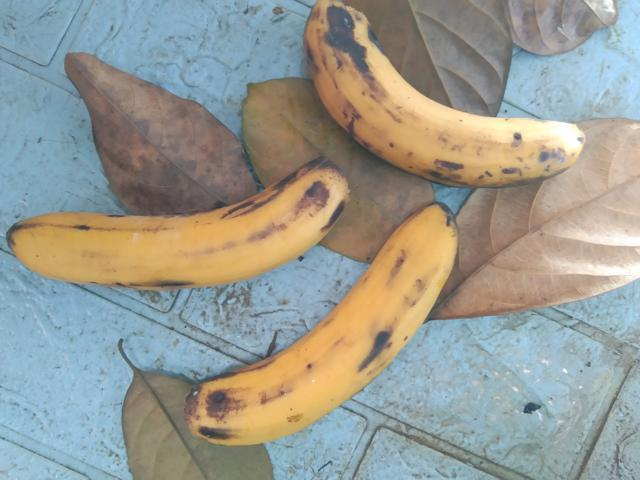overripe: (280, 0, 597, 192), (7, 147, 352, 306)
ripe: (172, 196, 473, 450)
